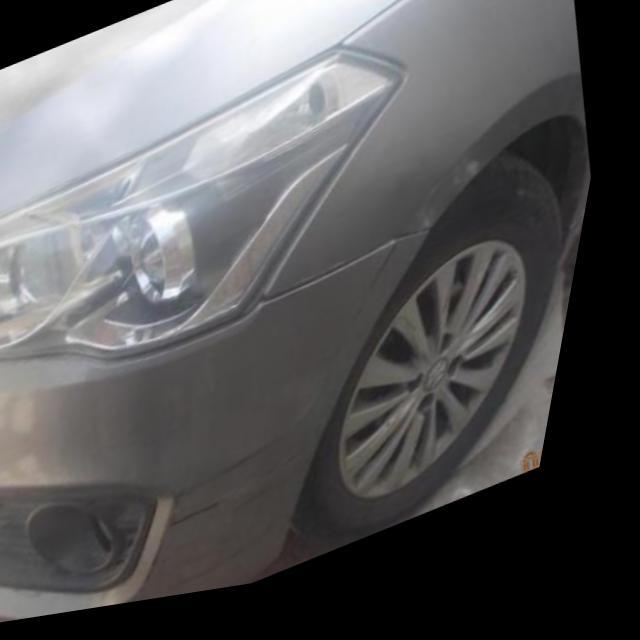crack: (361, 198, 452, 339), (146, 545, 193, 611)
dislocated part: (263, 235, 442, 323)
rub: (186, 422, 343, 541), (191, 485, 329, 599)
